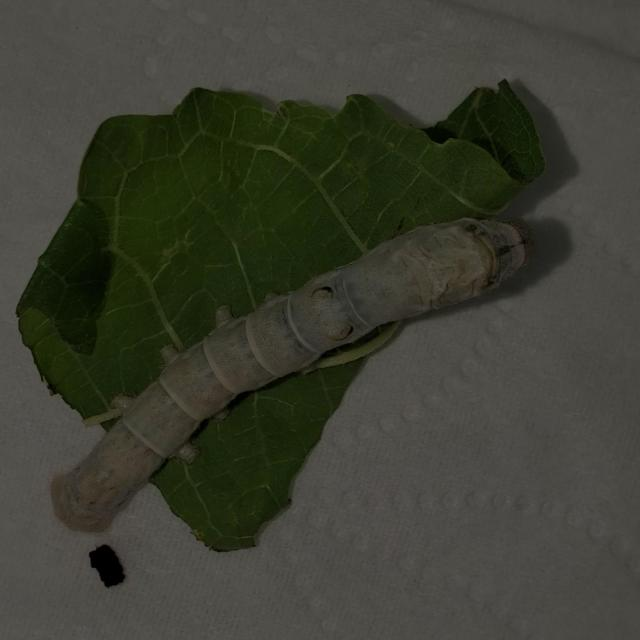Healthy: (41, 198, 536, 540)
